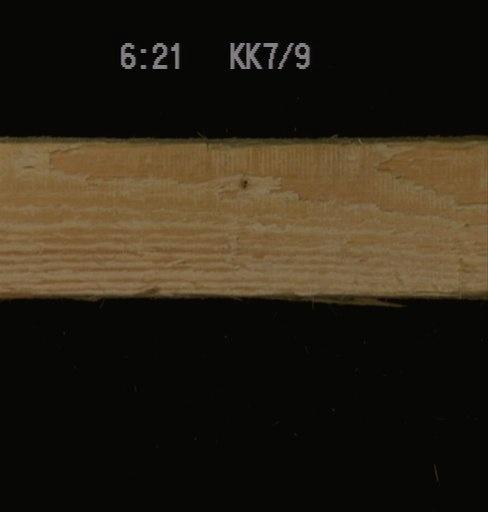small_knot: (235, 174, 252, 191)
